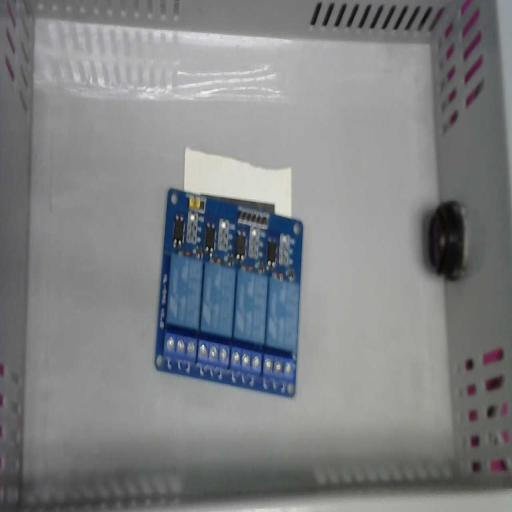relay_module: (155, 188, 304, 398)
